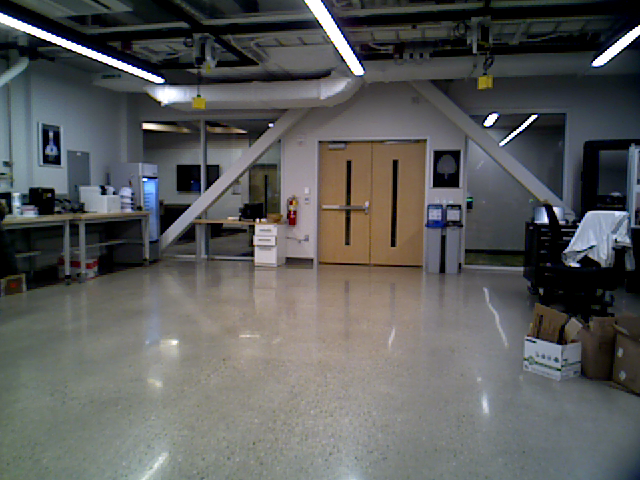painting1: (430, 147, 463, 189)
painting2: (34, 120, 67, 168)
